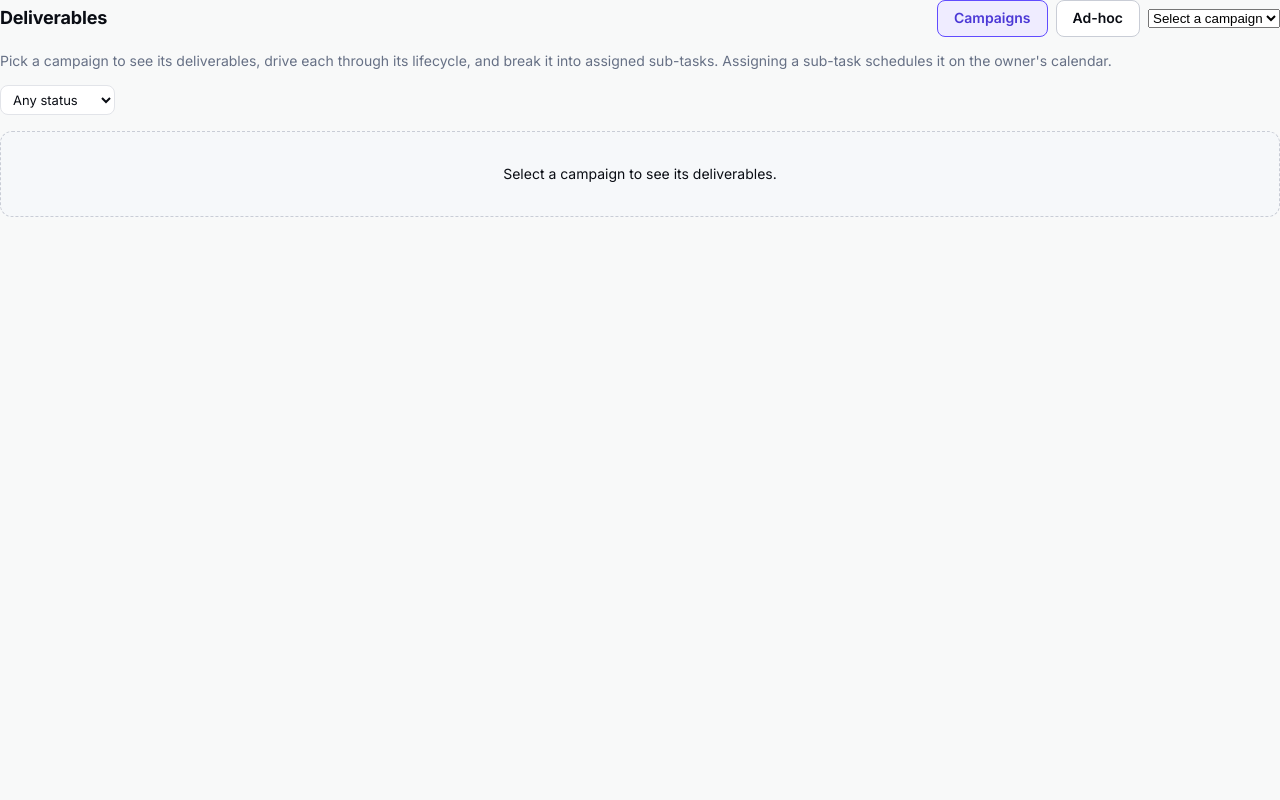
DeliverablesPage (ADR-0024, I2 breakdown surface) › opens the detail in a modal, not inline below the list
Select "Spring Launch" in the dropdown with test id "deliverables-campaign": point(1214, 18) [1148,9,1279,28]
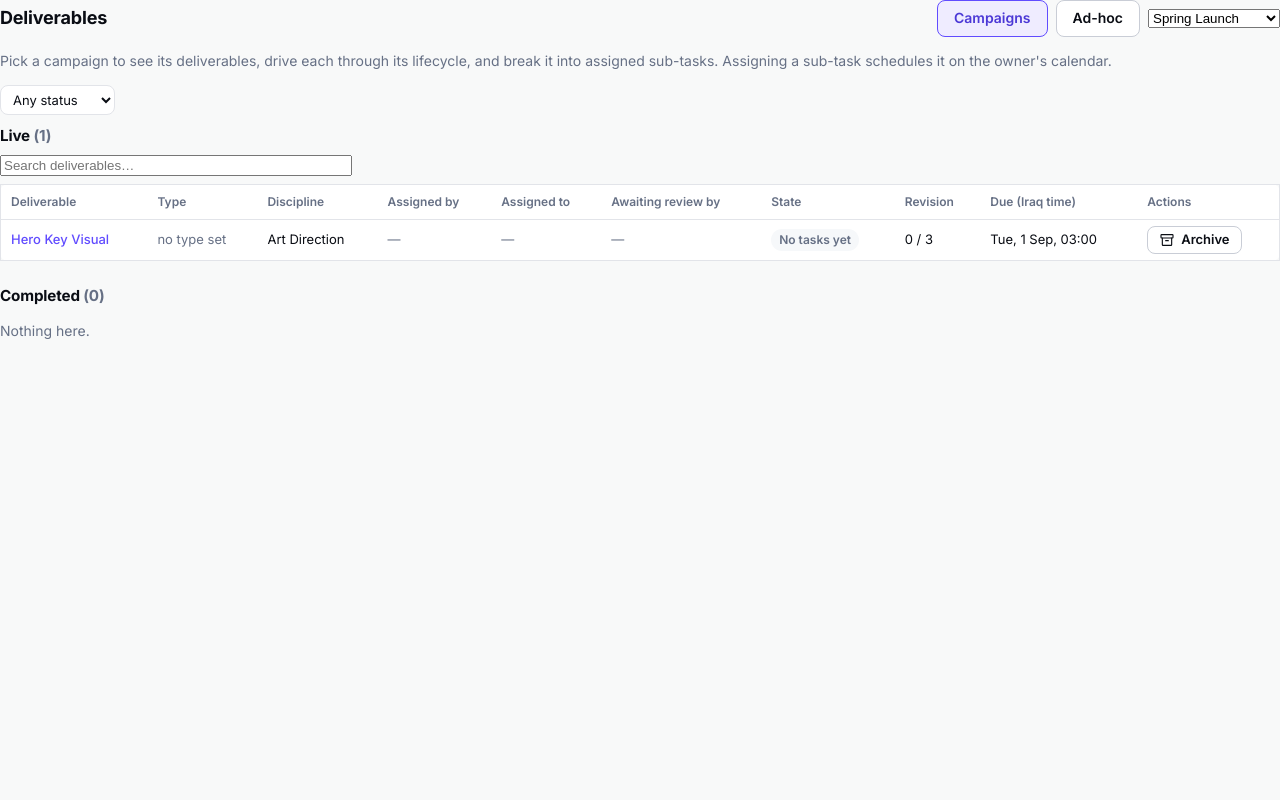
Click the button with test id "deliverable-open-d1": point(60, 240) [11,232,109,248]
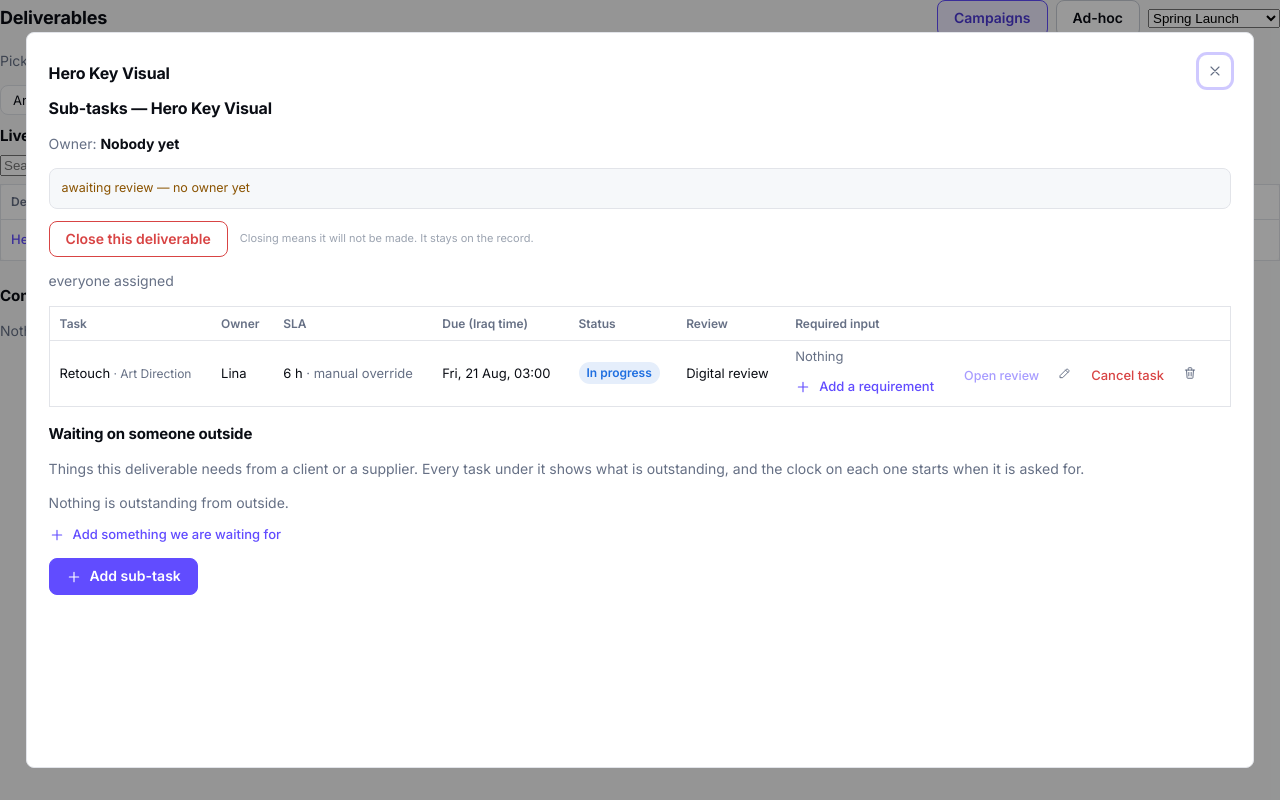
Result: the dialog with test id "deliverable-detail-dialog" is shown
